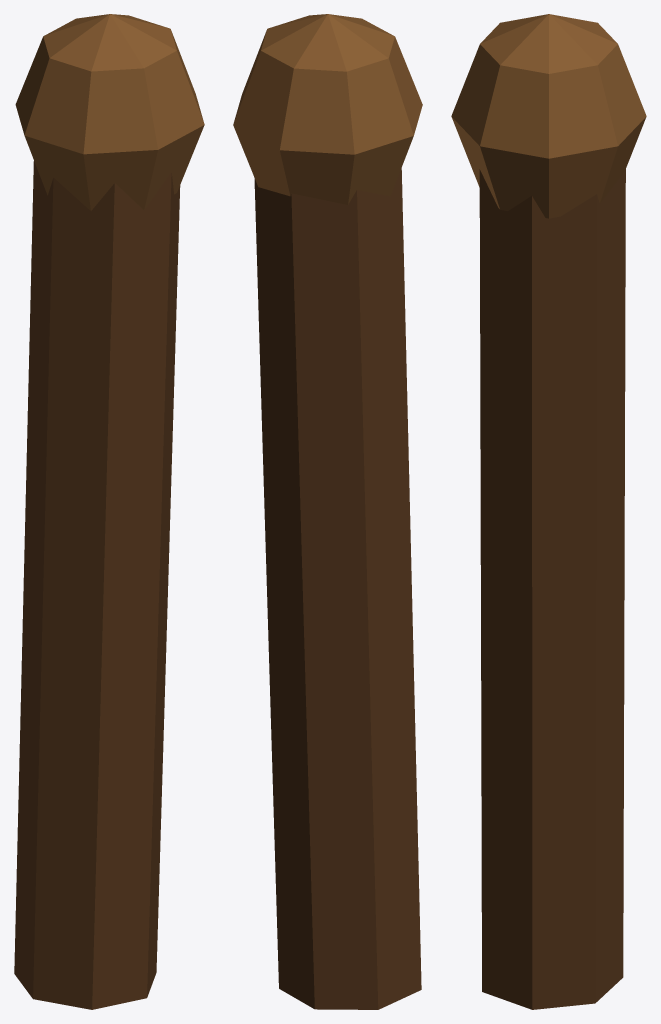
Rendered from knee_l.obj.
The picture shows the model from 3 angles, left to right: view 1: azimuth 30°, elevation 25°; view 2: azimuth 150°, elevation 25°; view 3: azimuth 270°, elevation 25°; orthographic projection.
Visible parts, largest first — view 1: Lower_wooden_shin_L, Knee_knot_L; view 2: Lower_wooden_shin_L, Knee_knot_L; view 3: Lower_wooden_shin_L, Knee_knot_L.
Boxes of the visible parts, box(x1,y1,x2,y2) form: Lower_wooden_shin_L: box(14, 161, 180, 1009); Knee_knot_L: box(15, 14, 204, 210); Lower_wooden_shin_L: box(254, 168, 421, 1009); Knee_knot_L: box(233, 14, 422, 204); Lower_wooden_shin_L: box(479, 169, 625, 1009); Knee_knot_L: box(451, 14, 646, 218).
Size of the model in its own units: 0.146 by 0.7835 by 0.142.
